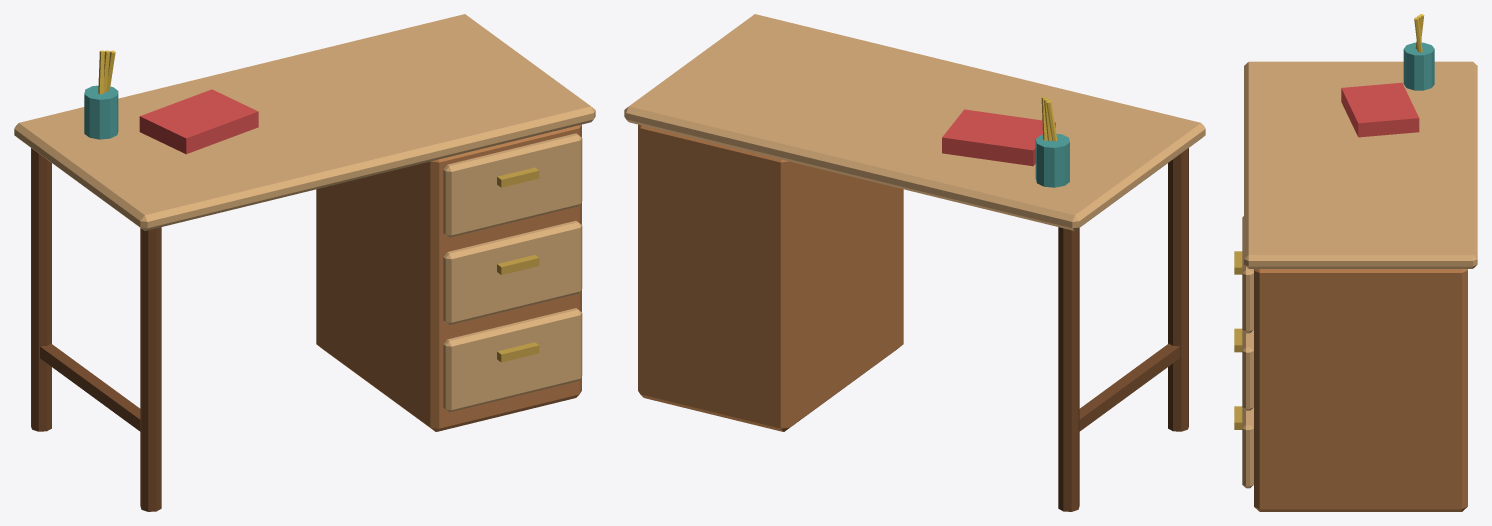
Rendered from home_desk_v01.glb.
3 renders of one model, left to right at view 1: azimuth 30°, elevation 25°; view 2: azimuth 150°, elevation 25°; view 3: azimuth 270°, elevation 25°, orthographic. The views are drawn at different scales.
Parts seen in each view (by area): view 1: desk; view 2: desk; view 3: desk.
Boxes of the visible parts, bbox=[...] form: desk: bbox=[14, 14, 595, 511]; desk: bbox=[624, 14, 1205, 511]; desk: bbox=[1234, 14, 1477, 511].
Bounding box in the file's own units: 1.2 × 0.9602 × 0.625.
